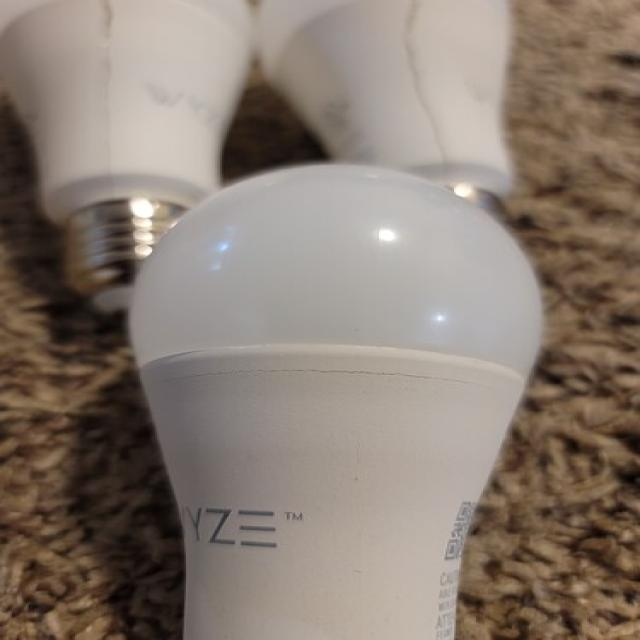bulb: (102, 142, 582, 619)
